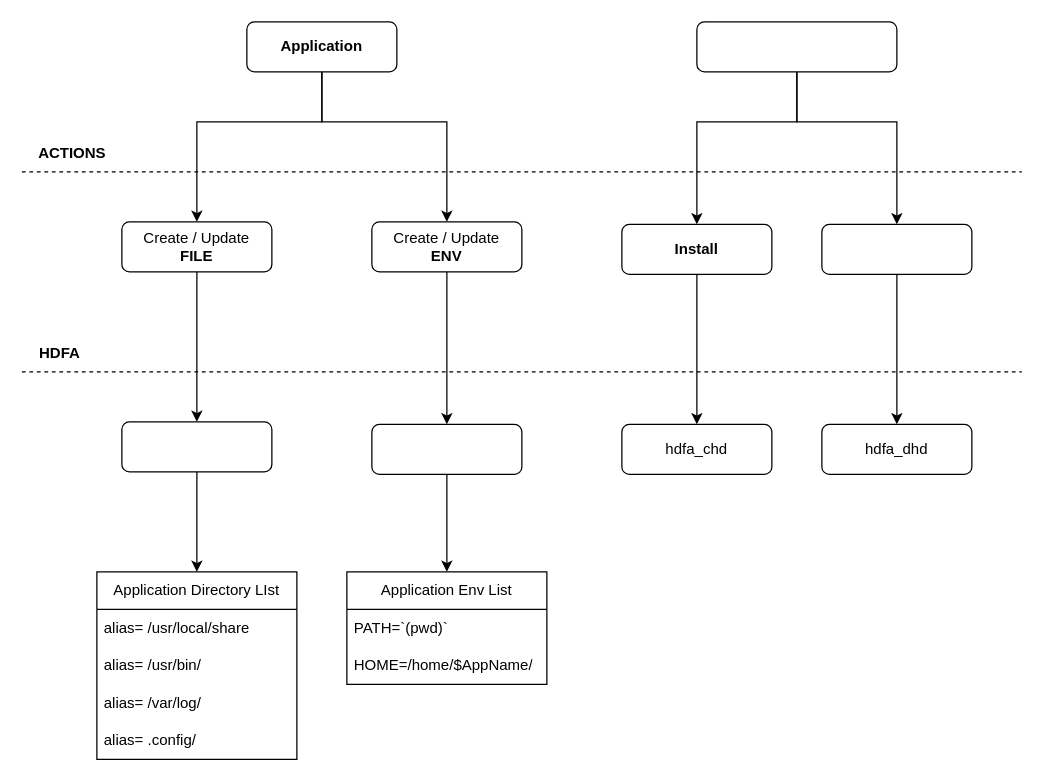
Some shapes in this 1045 by 781 pixel diagram are drawn without their labels. Each missing label, with the box of its shape:
Delete: (821, 223, 972, 274)
hdfa_cu_env: (371, 423, 522, 474)
hdfa_cu_file: (121, 421, 272, 472)
Package Manager System: (696, 21, 897, 72)
